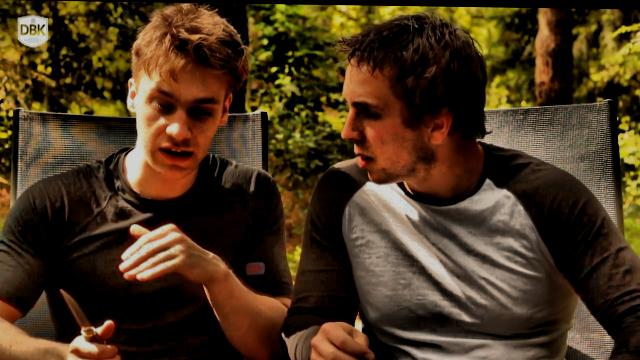knife: (52, 281, 128, 360)
